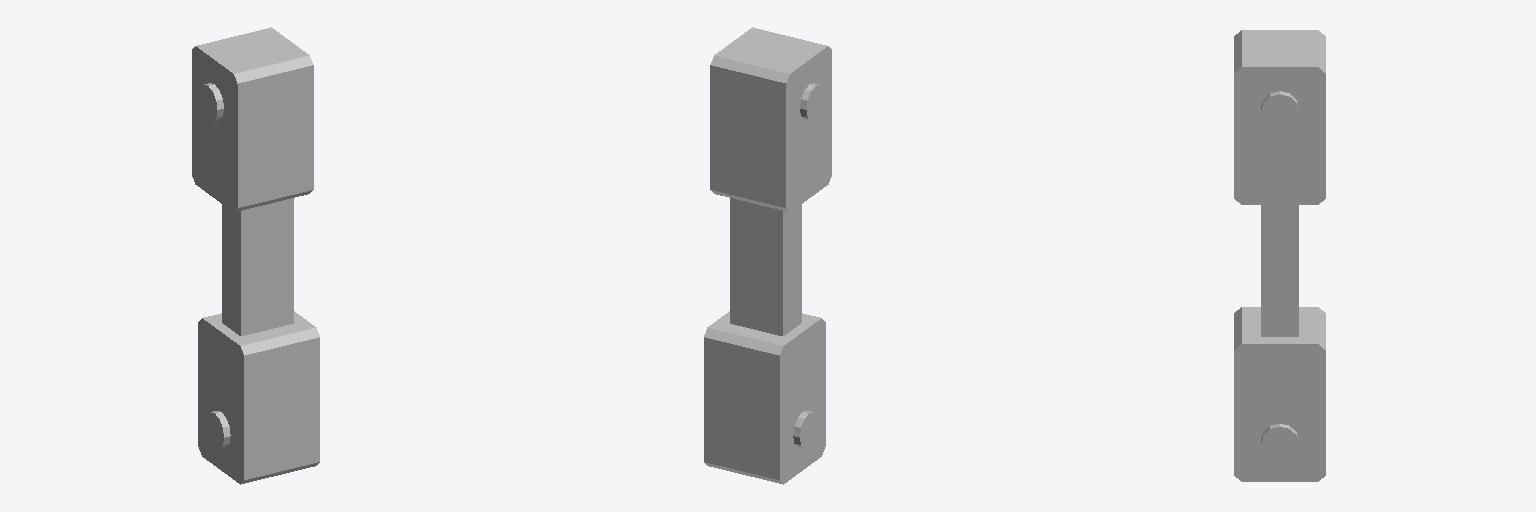
The model's file is rightLeg2.obj.
The picture shows the model from 3 angles: view 1: azimuth 30°, elevation 25°; view 2: azimuth 150°, elevation 25°; view 3: azimuth 270°, elevation 25°; orthographic projection.
Visible parts, largest first — view 1: unnamed_object1; view 2: unnamed_object1; view 3: unnamed_object1.
Boxes of the visible parts, box(x1,y1,x2,y2) form: unnamed_object1: box(192, 27, 319, 484); unnamed_object1: box(704, 27, 831, 484); unnamed_object1: box(1234, 30, 1325, 481).
Size of the model in its own units: 7.25 by 29.75 by 6.